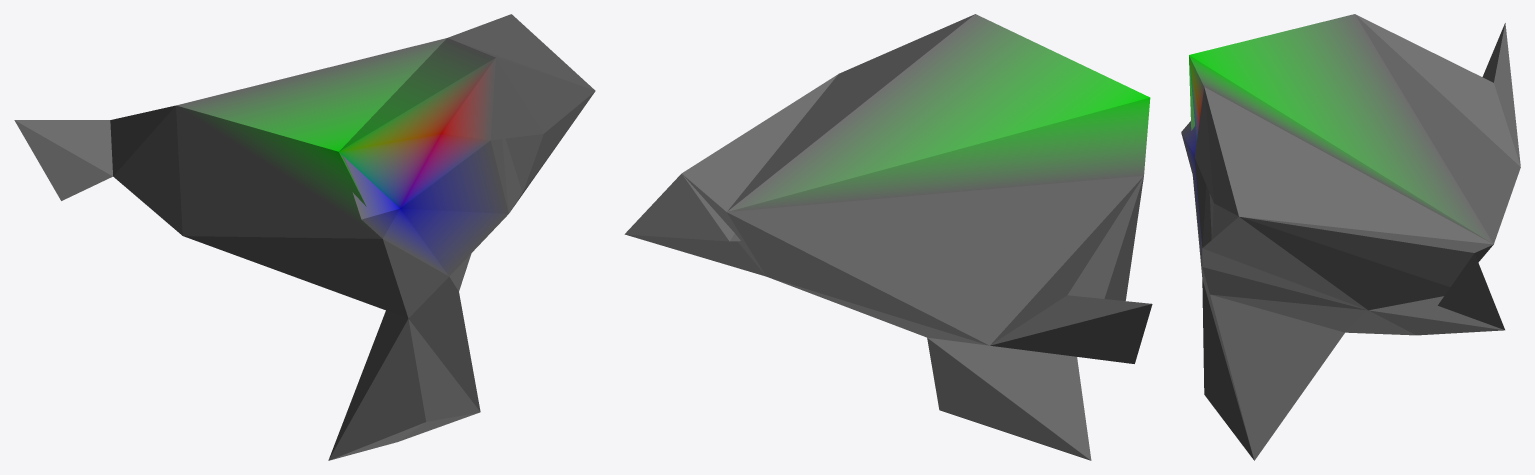
File: Decimate6.obj
The picture shows the model from 3 angles, left to right: view 1: azimuth 30°, elevation 25°; view 2: azimuth 150°, elevation 25°; view 3: azimuth 270°, elevation 25°; orthographic projection. The views are drawn at different scales.
Size of the model in its own units: 2.4 by 1.7 by 1.38.
